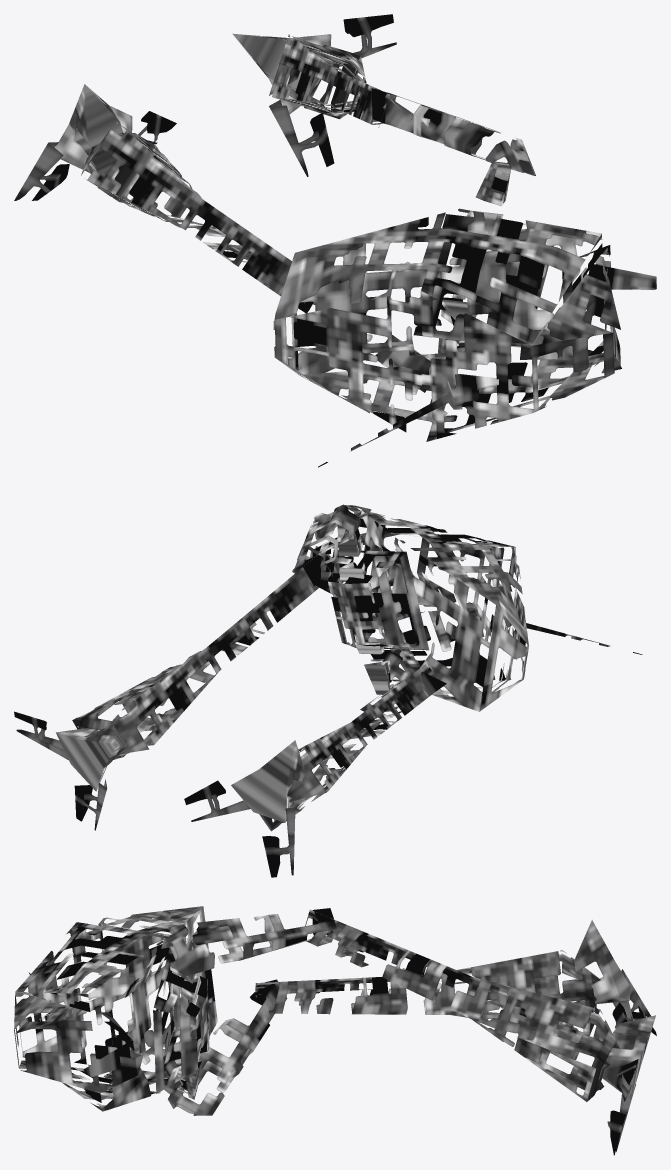
Rendered from flea_wreck_forward.glb.
3 views of the same model, one above another, from view 1: azimuth 30°, elevation 25°; view 2: azimuth 150°, elevation 25°; view 3: azimuth 270°, elevation 25° (orthographic). The views are drawn at different scales.
Parts seen in each view (by area): view 1: fl_luleg01; view 2: fl_luleg01; view 3: fl_luleg01.
Boxes of the visible parts, x1,y1,x2,y2 form: fl_luleg01: (14,14,656,467); fl_luleg01: (14,504,642,877); fl_luleg01: (14,906,656,1155).
Bounding box in the file's own units: 5.85 × 3.11 × 8.63.
Materials: 1 (1 with a texture image).
